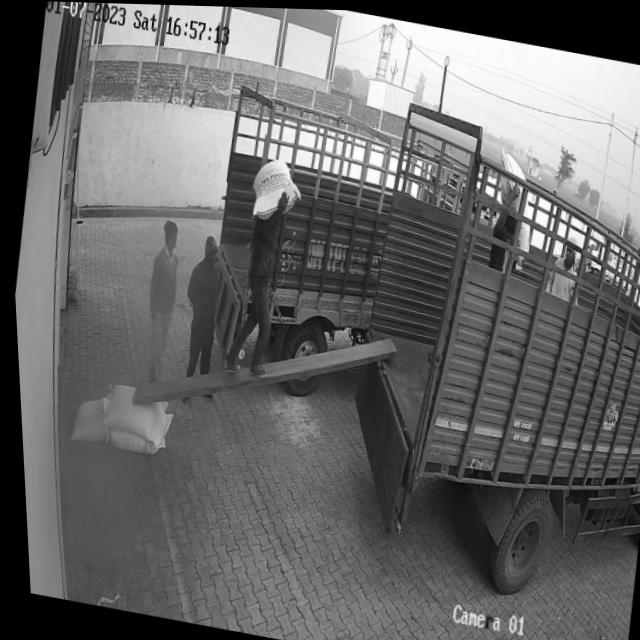sack: (244, 152, 305, 224), (95, 381, 166, 440), (100, 400, 170, 457), (61, 392, 110, 449)
